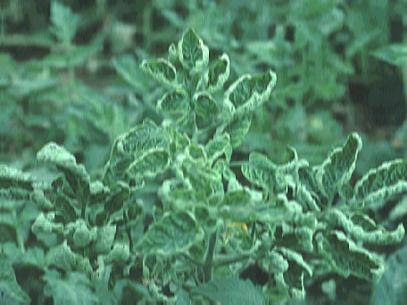Tomato leaf yellow virus: (308, 230, 407, 295), (123, 206, 205, 266), (340, 148, 407, 216), (119, 136, 191, 190), (317, 211, 407, 247), (325, 124, 370, 193), (106, 118, 166, 169), (174, 23, 209, 94), (217, 71, 276, 113), (121, 60, 188, 92)
